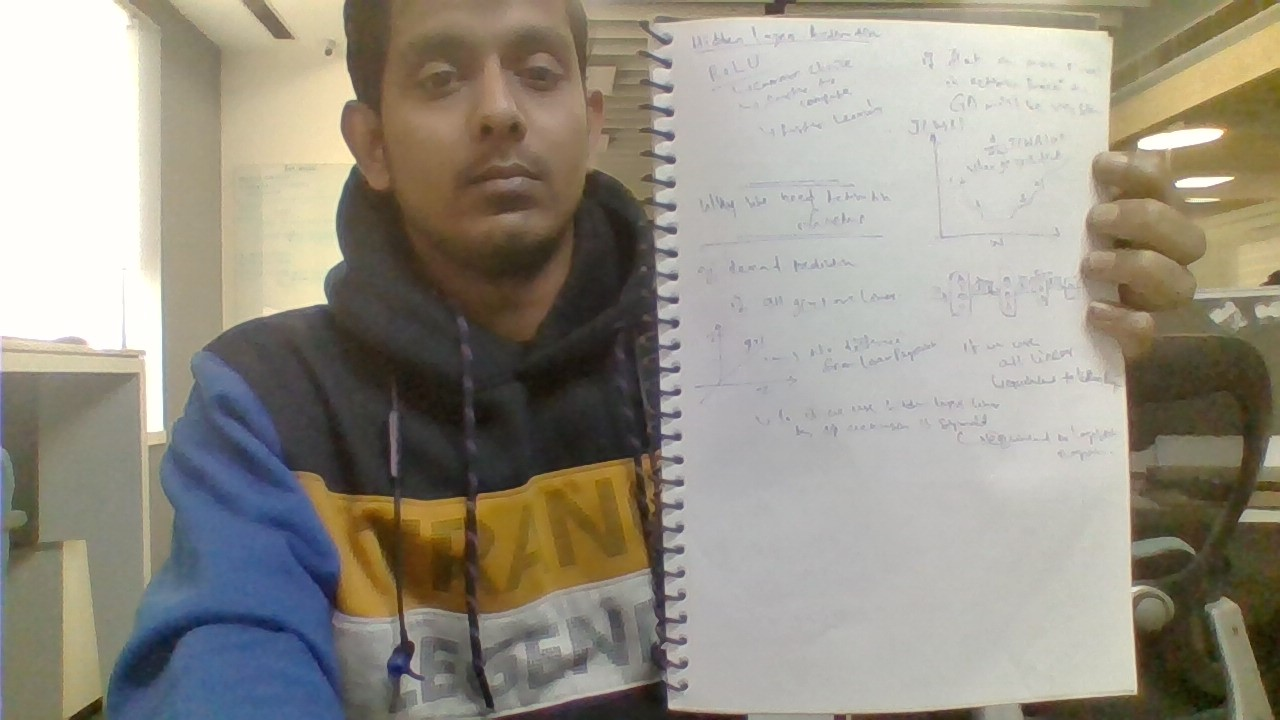notebook: (644, 16, 1154, 714)
